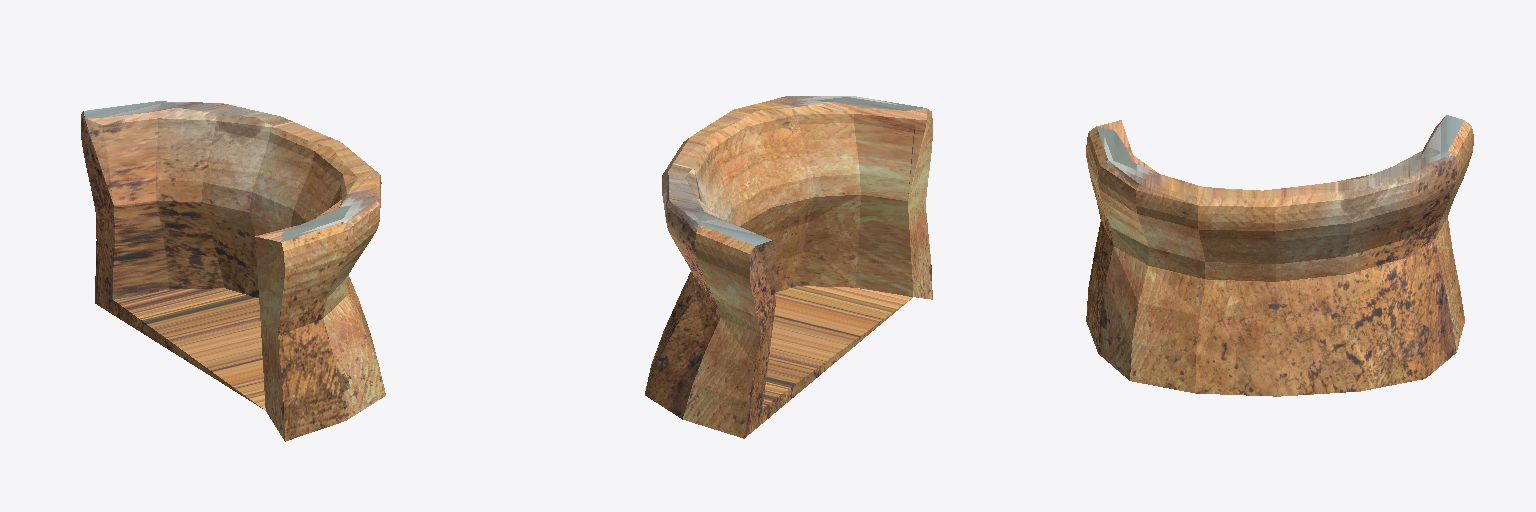
3 views of the same model, side by side, from view 1: azimuth 30°, elevation 25°; view 2: azimuth 150°, elevation 25°; view 3: azimuth 270°, elevation 25° (orthographic).
Visible parts, largest first — view 1: Cylinder.002_Cylinder.004; view 2: Cylinder.002_Cylinder.004; view 3: Cylinder.002_Cylinder.004.
Part boxes in pixels (x1,y1,x2,y2): Cylinder.002_Cylinder.004: (81,101,385,441); Cylinder.002_Cylinder.004: (645,96,932,438); Cylinder.002_Cylinder.004: (1086,115,1473,396).
Bounding box in the file's own units: 0.2372 × 0.2529 × 0.4526.
Materials: 2 (2 with a texture image).